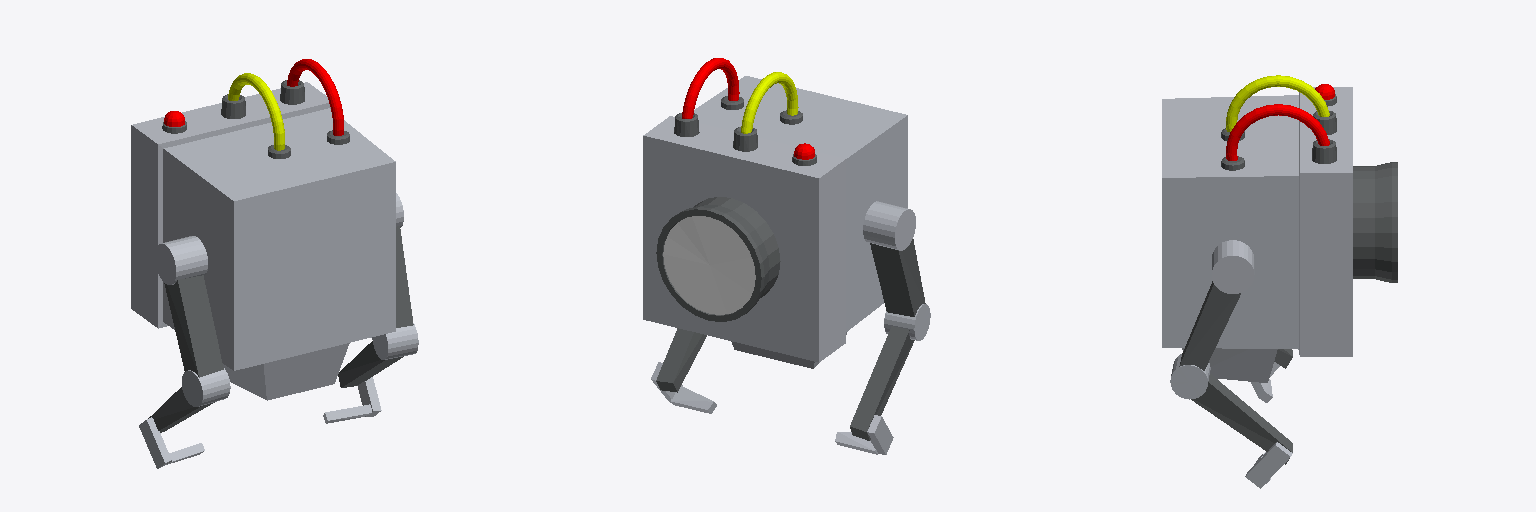
File: model-head.obj
The picture shows the model from 3 angles: view 1: azimuth 30°, elevation 25°; view 2: azimuth 150°, elevation 25°; view 3: azimuth 270°, elevation 25°; orthographic projection.
Parts seen in each view (by area): view 1: mesh_head; view 2: mesh_head; view 3: mesh_head.
Boxes of the visible parts, <box> form: mesh_head: <box>131,59,418,468</box>; mesh_head: <box>643,58,930,454</box>; mesh_head: <box>1162,75,1397,488</box>.
Size of the model in its own units: 0.2083 by 0.3143 by 0.1868.